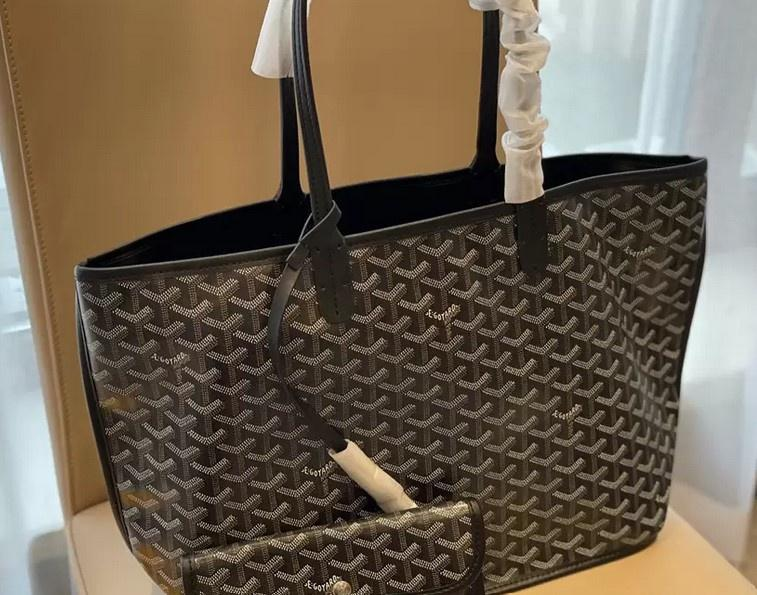GOYARD: (76, 169, 707, 595), (193, 501, 472, 595)
